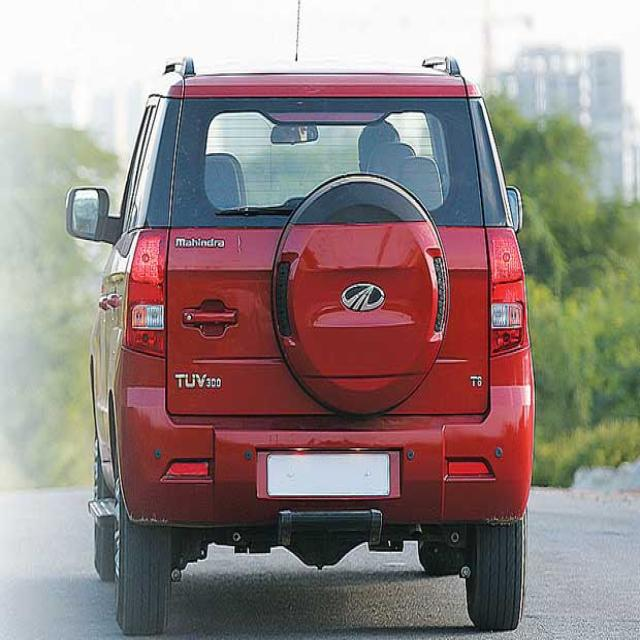light_vehicle: (60, 54, 532, 640)
